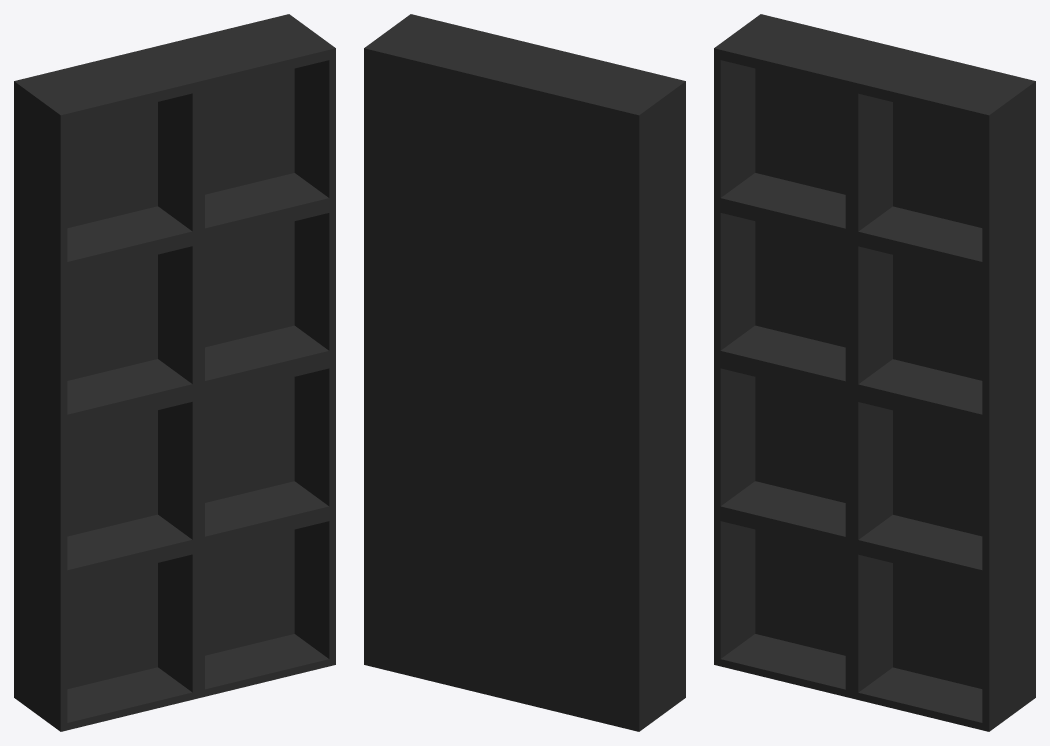
The model's file is bookshelf.FBX.
3 renders of one model, left to right at view 1: azimuth 30°, elevation 25°; view 2: azimuth 150°, elevation 25°; view 3: azimuth 330°, elevation 25°, orthographic.
Visible parts, largest first — view 1: bookshelf1, bookshelf2; view 2: bookshelf1, bookshelf2; view 3: bookshelf1, bookshelf2.
Boxes of the visible parts, bbox=[...] form: bookshelf1: bbox=[14, 14, 335, 423]; bookshelf2: bbox=[14, 356, 335, 731]; bookshelf1: bbox=[364, 14, 685, 423]; bookshelf2: bbox=[364, 356, 685, 731]; bookshelf1: bbox=[714, 14, 1035, 423]; bookshelf2: bbox=[714, 356, 1035, 731].
Bounding box in the file's own units: 124 × 265 × 36.4.
